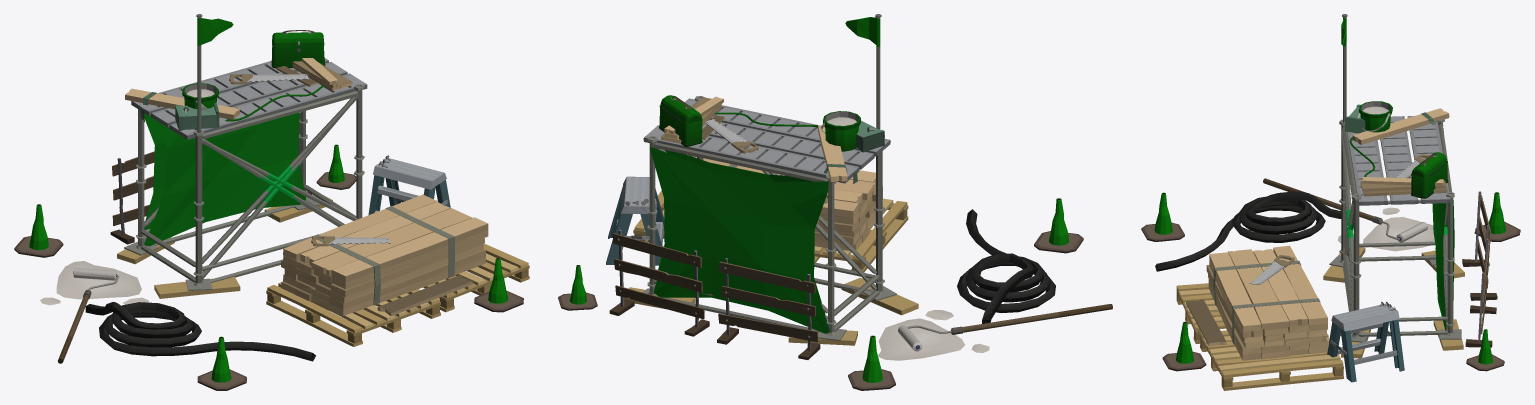
3 renders of one model, left to right at view 1: azimuth 30°, elevation 25°; view 2: azimuth 150°, elevation 25°; view 3: azimuth 270°, elevation 25°, orthographic. The views are drawn at different scales.
Visible parts, largest first — view 1: baseTutorial.002, cloth.001, midTutorial.002, RoofTutorial.002, scaffoldingFlag; view 2: baseTutorial.002, cloth.001, midTutorial.002, RoofTutorial.002, scaffoldingFlag; view 3: baseTutorial.002, midTutorial.002, RoofTutorial.002, cloth.001, scaffoldingFlag.
Part boxes in pixels (x1,y1,x2,y2): baseTutorial.002: [14, 62, 529, 390]; cloth.001: [144, 112, 305, 246]; midTutorial.002: [131, 58, 367, 283]; RoofTutorial.002: [125, 30, 365, 283]; scaffoldingFlag: [196, 14, 233, 132]; baseTutorial.002: [558, 100, 1112, 390]; cloth.001: [650, 147, 829, 333]; midTutorial.002: [644, 96, 890, 332]; RoofTutorial.002: [643, 95, 890, 332]; scaffoldingFlag: [845, 14, 881, 129]; baseTutorial.002: [1141, 101, 1520, 390]; midTutorial.002: [1339, 116, 1454, 336]; RoofTutorial.002: [1340, 104, 1454, 336]; cloth.001: [1432, 125, 1454, 330]; scaffoldingFlag: [1341, 14, 1347, 122].
Bounding box in the file's own units: 1.36 × 0.8097 × 1.08.
